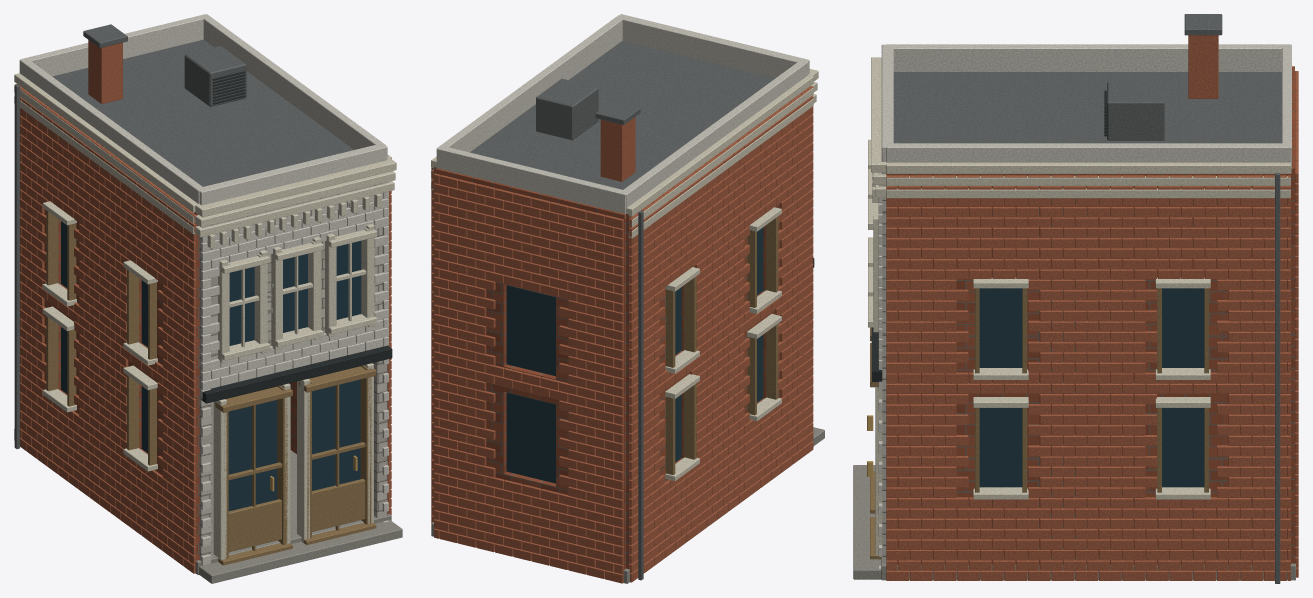
The model's file is CLSTGA13_lod0.glb.
The picture shows the model from 3 angles, left to right: view 1: azimuth 30°, elevation 25°; view 2: azimuth 150°, elevation 25°; view 3: azimuth 270°, elevation 25°; orthographic projection. The views are drawn at different scales.
Parts seen in each view (by area): view 1: CLSTGA13_LOD0; view 2: CLSTGA13_LOD0; view 3: CLSTGA13_LOD0.
Part boxes in pixels (<box>): CLSTGA13_LOD0: <box>14,14,402,583</box>; CLSTGA13_LOD0: <box>431,14,824,583</box>; CLSTGA13_LOD0: <box>853,14,1298,583</box>.
Bounding box in the file's own units: 4.11 × 7.85 × 6.6.
16 materials, 13 textured.
